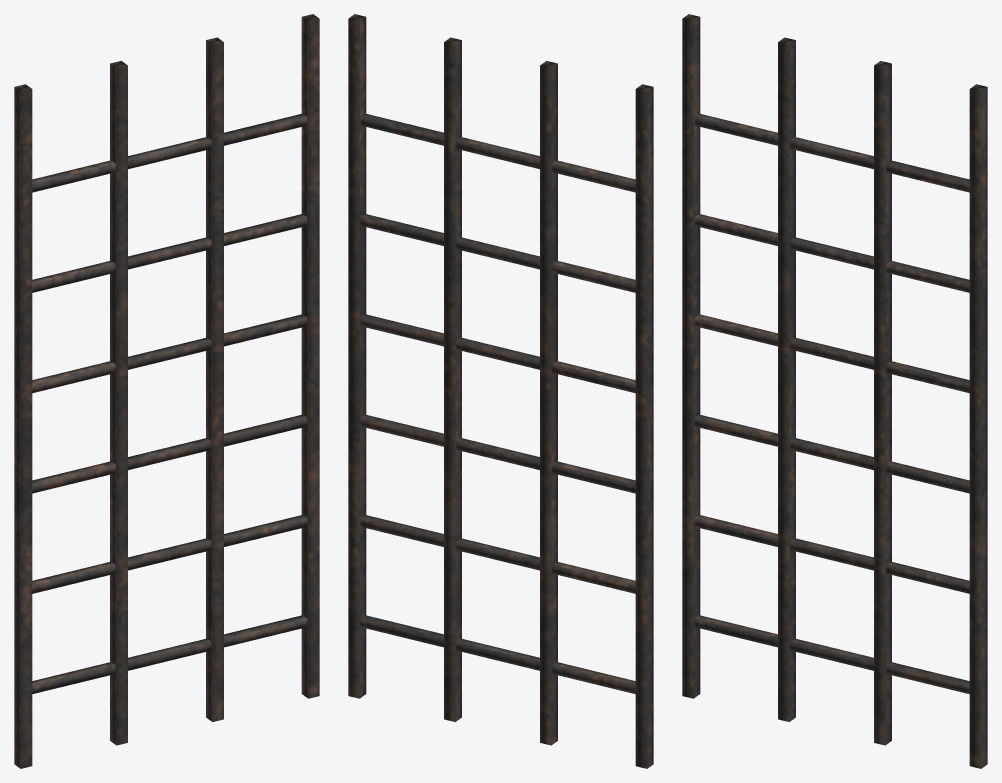
Rendered from towerblock_door2.glb.
The picture shows the model from 3 angles, left to right: view 1: azimuth 30°, elevation 25°; view 2: azimuth 150°, elevation 25°; view 3: azimuth 330°, elevation 25°; orthographic projection.
Visible parts, largest first — view 1: towerblock_door2; view 2: towerblock_door2; view 3: towerblock_door2.
Boxes of the visible parts, <box> form: towerblock_door2: <box>14,14,319,768</box>; towerblock_door2: <box>348,14,653,768</box>; towerblock_door2: <box>682,14,987,768</box>.
Size of the model in its own units: 3.12 by 6.75 by 0.1193.
1 material, 1 textured.
